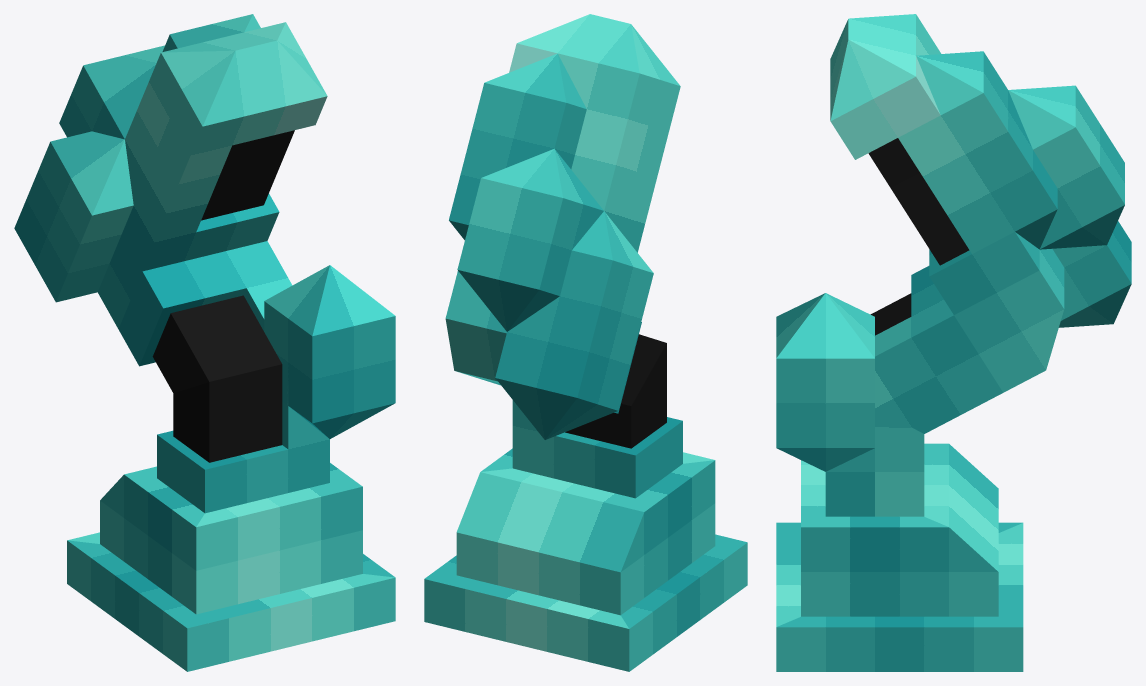
Rendered from leg_basic_r.obj.
3 renders of one model, left to right at view 1: azimuth 30°, elevation 25°; view 2: azimuth 150°, elevation 25°; view 3: azimuth 270°, elevation 25°, orthographic. The views are drawn at different scales.
Visible parts, largest first — view 1: LEG_RIGHT_BASIC_Cube.038, LEG_RIGHT_DECO_DIAMOND_Cube.295; view 2: LEG_RIGHT_BASIC_Cube.038, LEG_RIGHT_DECO_DIAMOND_Cube.295; view 3: LEG_RIGHT_BASIC_Cube.038, LEG_RIGHT_DECO_DIAMOND_Cube.295.
Boxes of the visible parts, bbox=[...] form: LEG_RIGHT_BASIC_Cube.038: bbox=[67, 22, 395, 671]; LEG_RIGHT_DECO_DIAMOND_Cube.295: bbox=[14, 14, 395, 438]; LEG_RIGHT_BASIC_Cube.038: bbox=[424, 14, 747, 671]; LEG_RIGHT_DECO_DIAMOND_Cube.295: bbox=[449, 53, 653, 439]; LEG_RIGHT_BASIC_Cube.038: bbox=[776, 14, 1064, 671]; LEG_RIGHT_DECO_DIAMOND_Cube.295: bbox=[776, 51, 1131, 471].
Size of the model in its own units: 0.3125 by 0.8246 by 0.4498.
